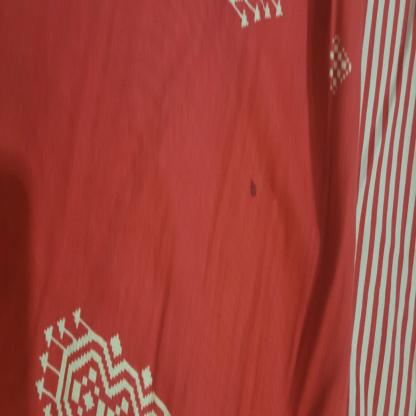spot: (247, 172, 259, 201)
